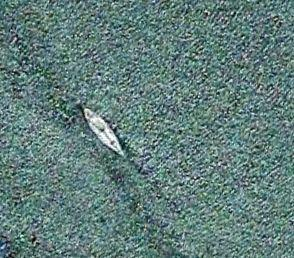Ships: (76, 97, 134, 175)
